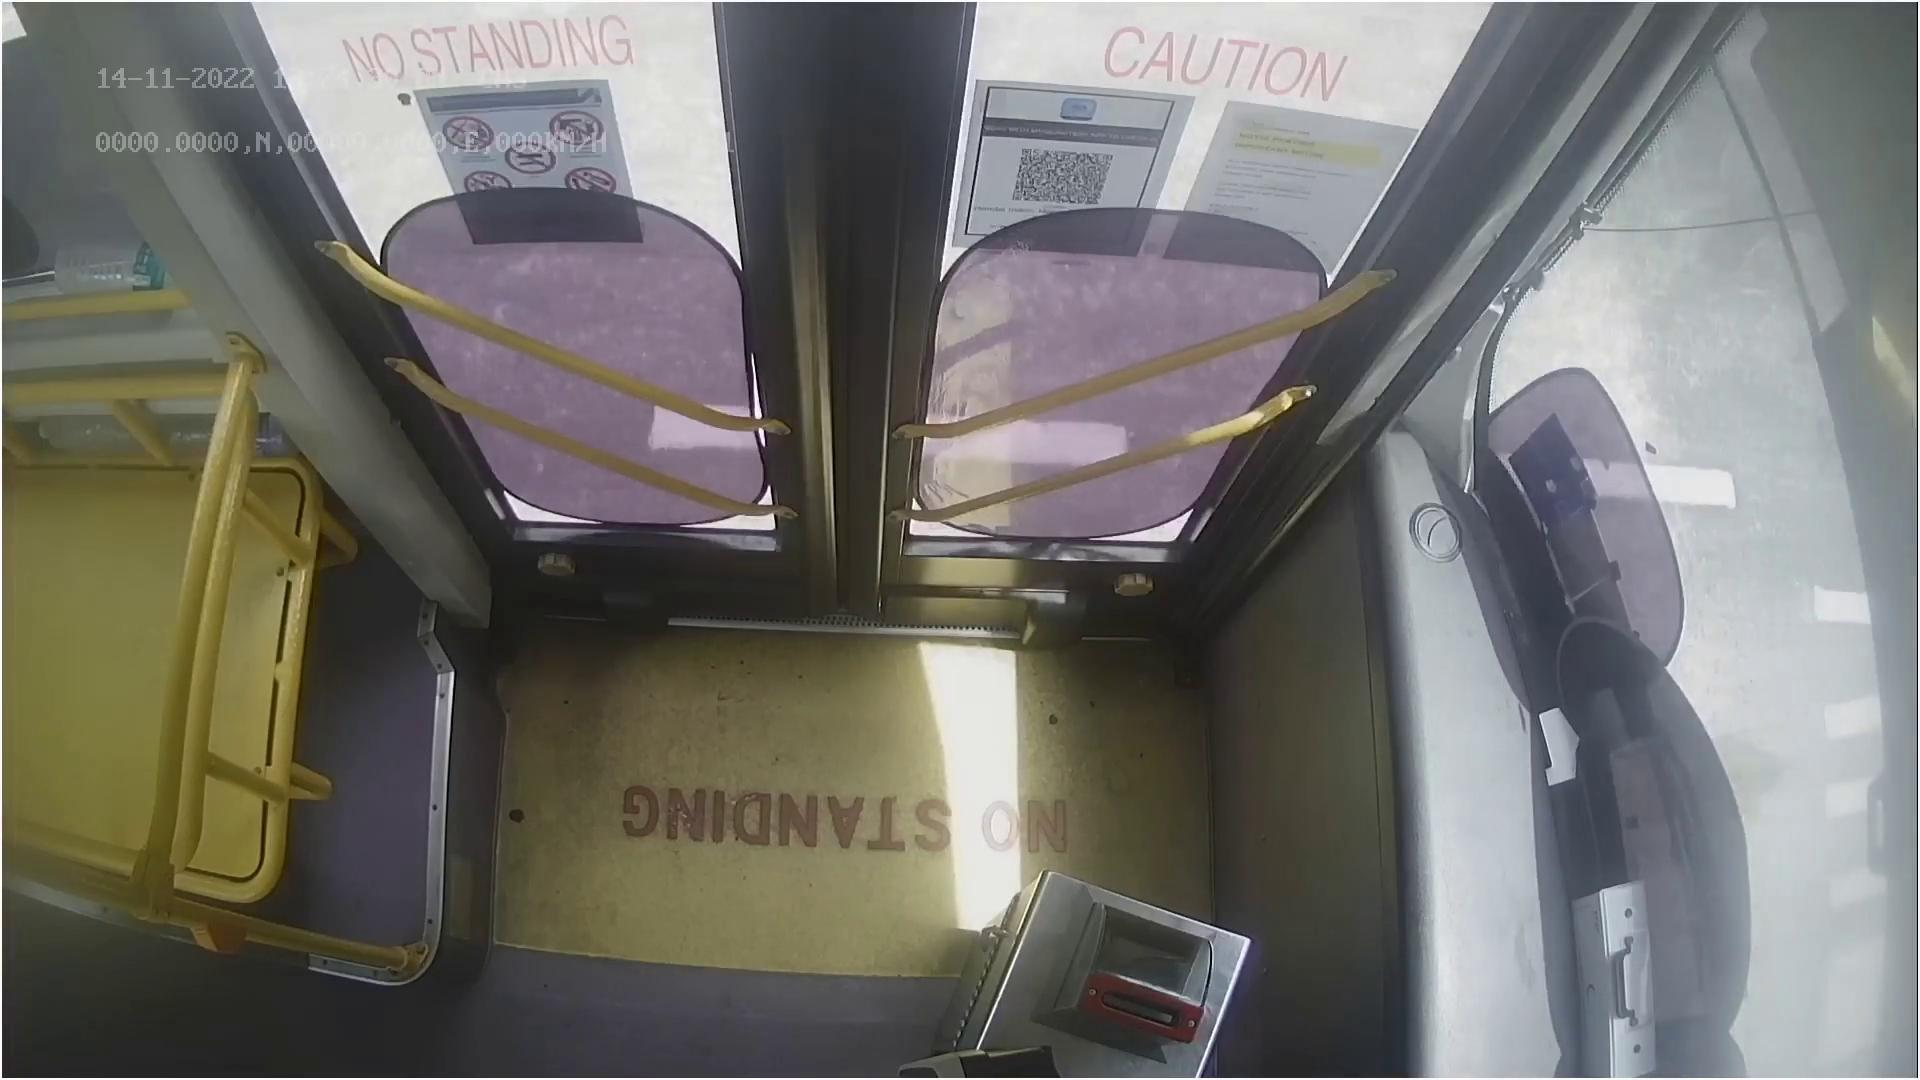close: (289, 0, 1445, 157)
